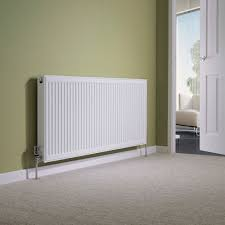Radiator: (33, 73, 149, 163)
